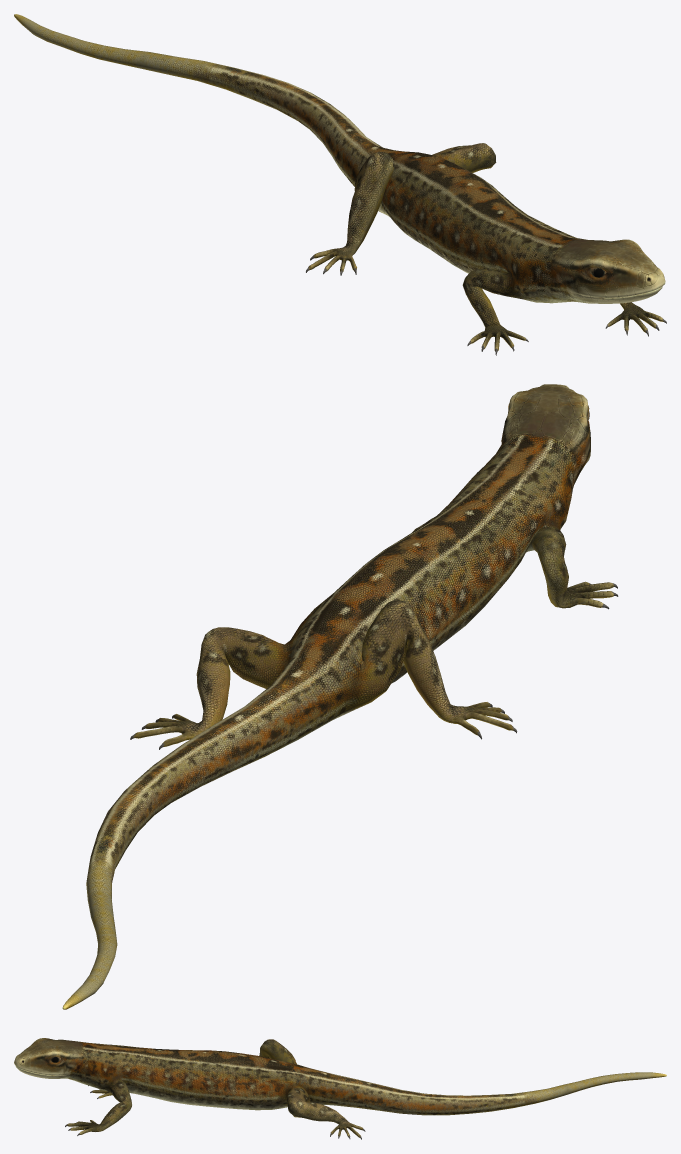
File: Standing171.obj
The picture shows the model from 3 angles, top to bottom: view 1: azimuth 30°, elevation 25°; view 2: azimuth 150°, elevation 25°; view 3: azimuth 270°, elevation 25°; orthographic projection. The views are drawn at different scales.
Visible parts, largest first — view 1: Lizard; view 2: Lizard; view 3: Lizard.
Part boxes in pixels (x1=…): Lizard: x1=14, y1=14, x2=666, y2=355; Lizard: x1=62, y1=384, x2=618, y2=1009; Lizard: x1=14, y1=1038, x2=666, y2=1139.
Size of the model in its own units: 25.34 by 12.09 by 101.
